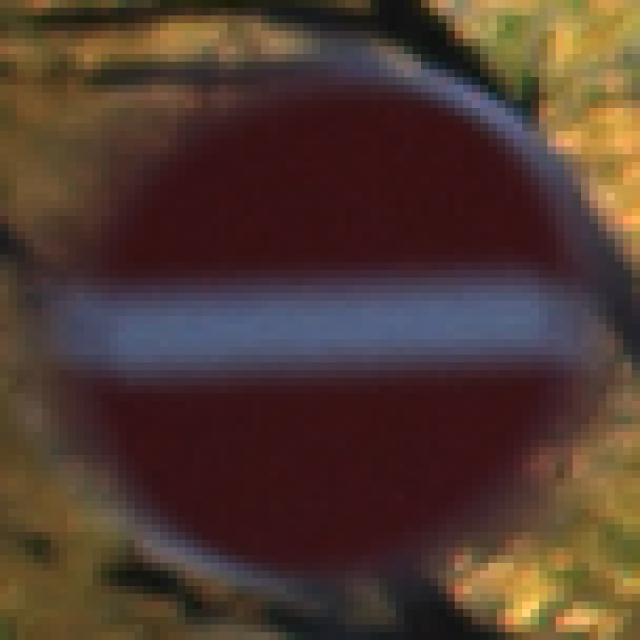no entry: (45, 63, 614, 586)
